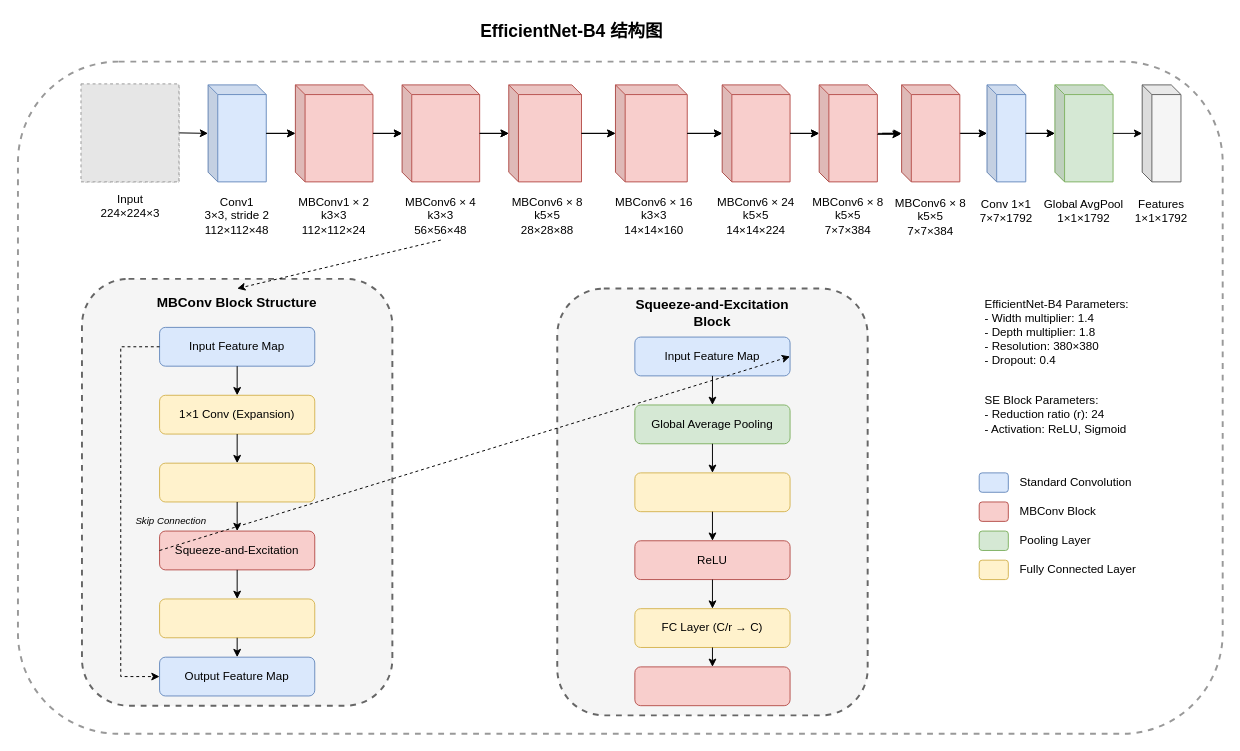
Image size: 1240x751. Some labels were removed from this diagram. Grey dashed boxes stand in for pictures. The centre of each missing label's shape, as x and y in pixels:
1×1 Conv (Projection): [237,618]
Depthwise Conv k×k: [237,482]
FC Layer (C → C/r): [712,492]
Sigmoid: [712,686]
